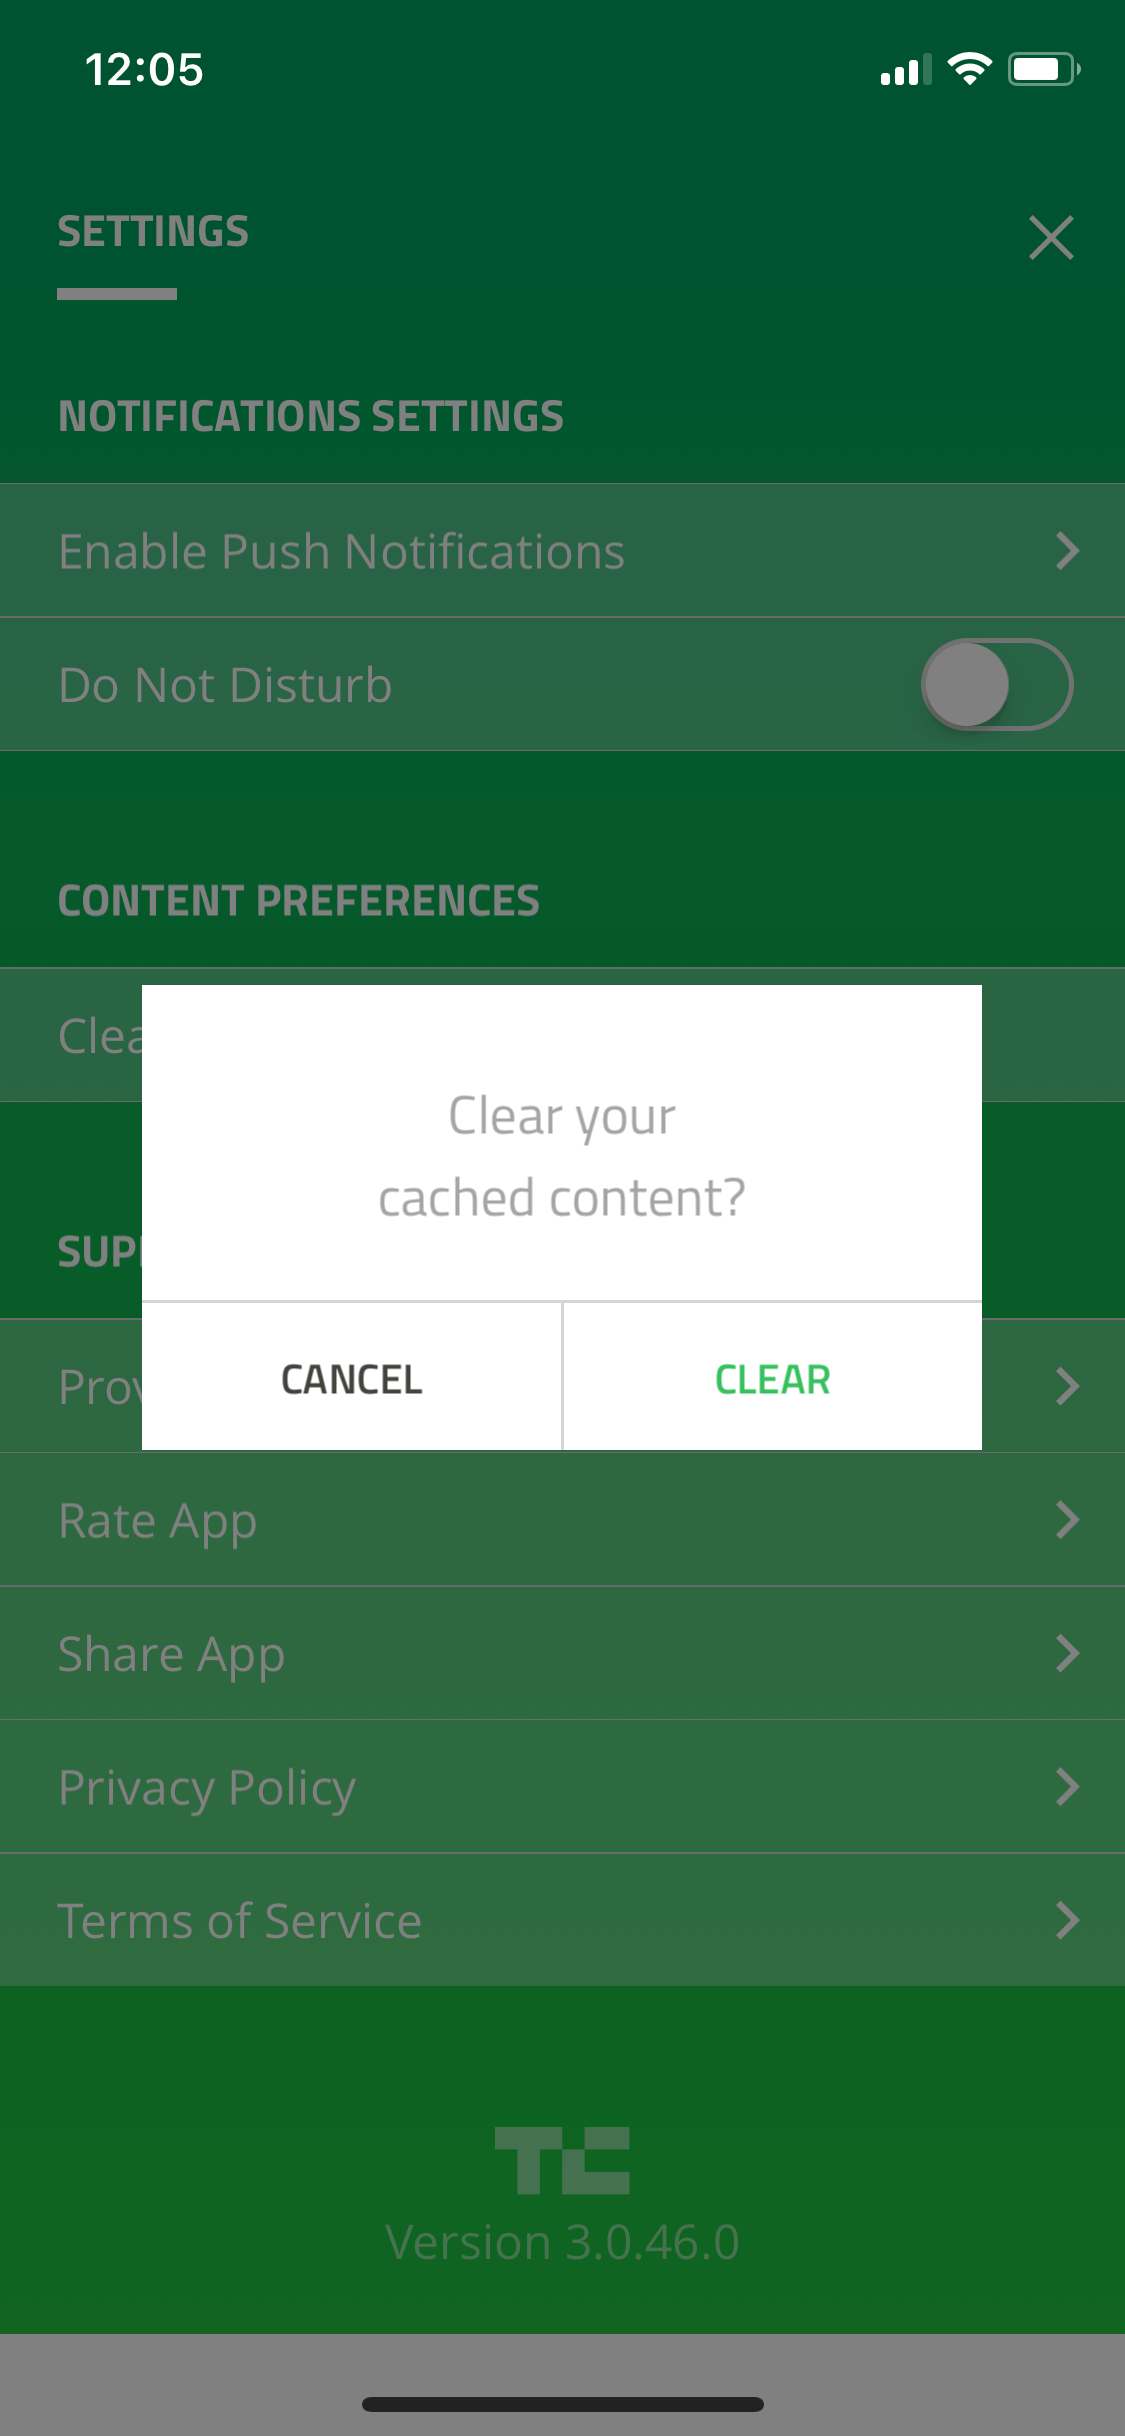Buttons: (988, 176, 1102, 283)
Switches: (911, 615, 1085, 744)
